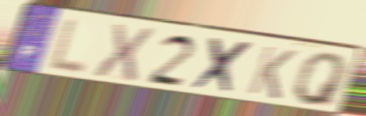2: (143, 33, 200, 89)
K: (244, 44, 299, 102)
L: (44, 17, 89, 78)
Q: (292, 52, 349, 109)
X: (189, 35, 257, 97), (90, 21, 157, 83)
